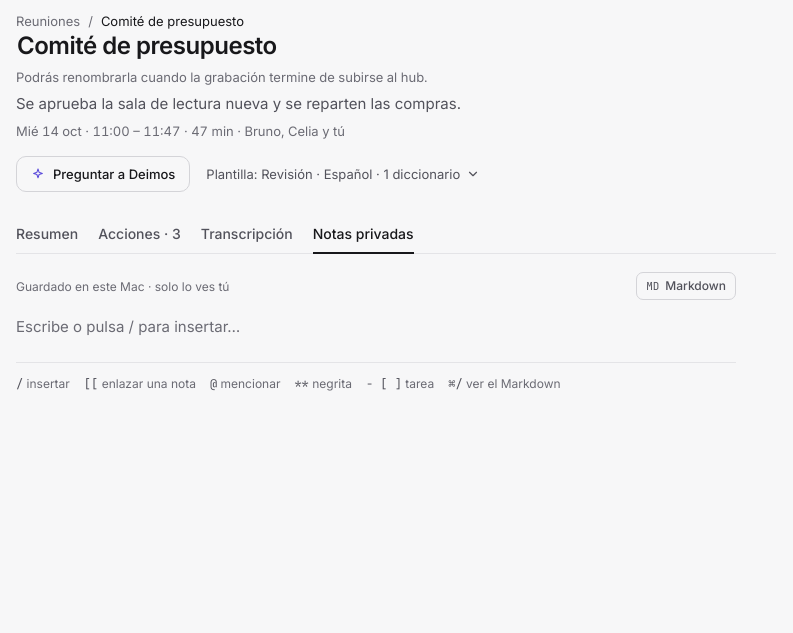
Test case: «Rehacer resumen» in the Resumen › waits for the recording to end, and says so
The width and height of the screenshot is (793, 633).
Click the tab "Resumen" at (47, 234), box left=16, top=214, right=78, bottom=254
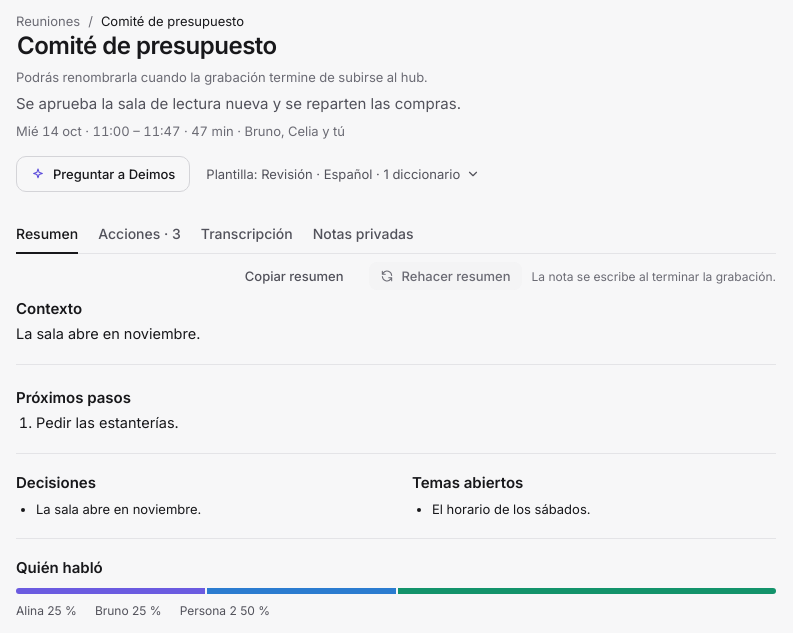
Check: the button "Rehacer resumen" is disabled, box left=369, top=262, right=522, bottom=290
Check: the text "La nota se escribe al terminar la grabación." is shown, box left=532, top=268, right=776, bottom=285
